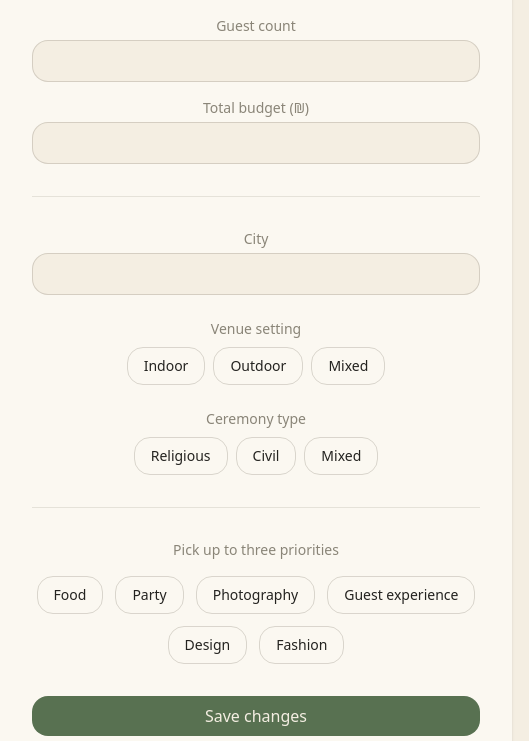
Test case: EditWeddingForm › shows an error message when the action reports failure
The image size is (529, 741).
(page scrolled)
Step 1. Click the button "Save changes" → click(256, 716), box [32,696,480,736]
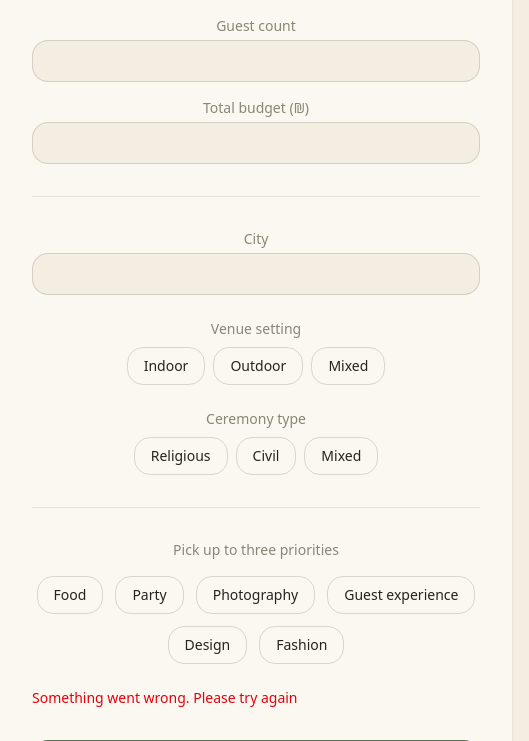
Expected: the text "Something went wrong. Please try again" is shown, [32,688,298,707]
